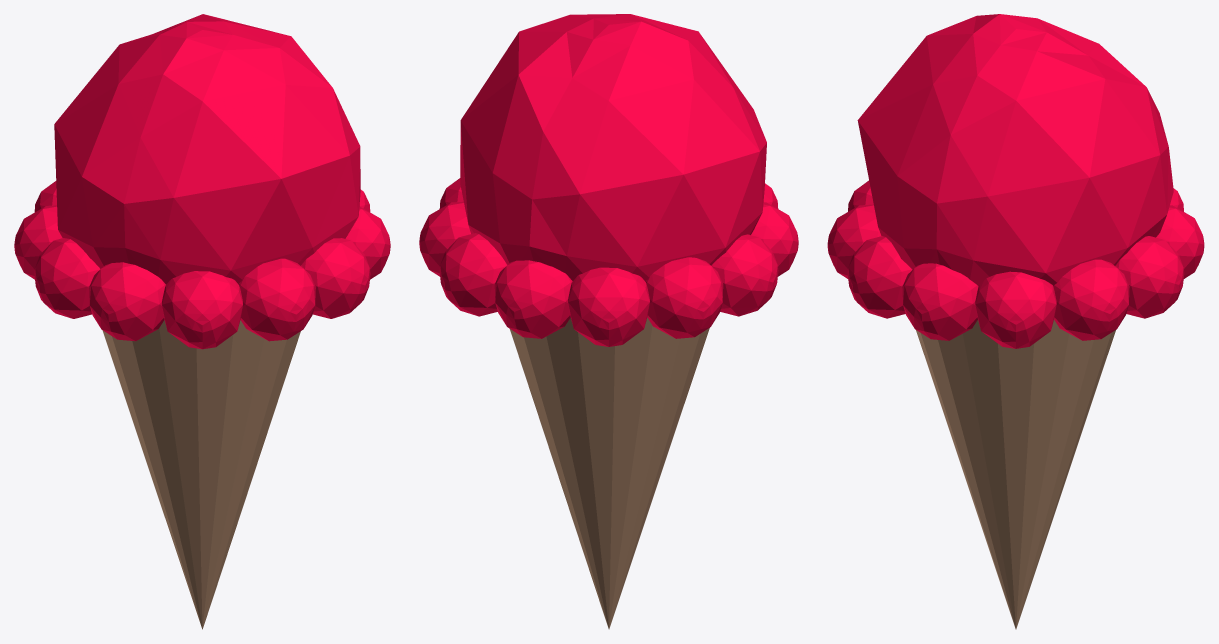
The model's file is Icecream.fbx.
3 renders of one model, left to right at view 1: azimuth 30°, elevation 25°; view 2: azimuth 150°, elevation 25°; view 3: azimuth 270°, elevation 25°, orthographic.
Parts seen in each view (by area): view 1: Grote_Bol_Backup, Cone, Kleine_Bol_7, Kleine_Bol_6, Kleine_Bol_8, Kleine_Bol_5, Kleine_Bol_9, Kleine_Bol_10, Kleine_Bol_4; view 2: Grote_Bol_Backup, Cone, Kleine_Bol_11, Kleine_Bol_10, Kleine_Bol_0, Kleine_Bol_1, Kleine_Bol_9, Kleine_Bol_2, Kleine_Bol_8; view 3: Grote_Bol_Backup, Cone, Kleine_Bol_3, Kleine_Bol_2, Kleine_Bol_4, Kleine_Bol_1, Kleine_Bol_5, Kleine_Bol_6, Kleine_Bol_0.
Boxes of the visible parts, <box> form: Grote_Bol_Backup: <box>54,14,360,284</box>; Cone: <box>102,320,300,629</box>; Kleine_Bol_7: <box>162,271,242,349</box>; Kleine_Bol_6: <box>238,258,315,341</box>; Kleine_Bol_8: <box>89,262,165,341</box>; Kleine_Bol_5: <box>301,238,370,318</box>; Kleine_Bol_9: <box>34,238,100,318</box>; Kleine_Bol_10: <box>14,205,62,279</box>; Kleine_Bol_4: <box>345,206,390,279</box>; Grote_Bol_Backup: <box>460,14,766,281</box>; Cone: <box>510,317,709,629</box>; Kleine_Bol_11: <box>568,267,649,346</box>; Kleine_Bol_10: <box>645,257,723,338</box>; Kleine_Bol_0: <box>494,260,572,338</box>; Kleine_Bol_1: <box>439,233,506,316</box>; Kleine_Bol_9: <box>711,234,778,316</box>; Kleine_Bol_2: <box>419,201,470,276</box>; Kleine_Bol_8: <box>751,202,798,276</box>; Grote_Bol_Backup: <box>857,14,1173,286</box>; Cone: <box>916,320,1115,629</box>; Kleine_Bol_3: <box>975,271,1056,348</box>; Kleine_Bol_2: <box>1053,259,1129,340</box>; Kleine_Bol_4: <box>902,263,978,340</box>; Kleine_Bol_1: <box>1115,236,1184,318</box>; Kleine_Bol_5: <box>847,236,912,318</box>; Kleine_Bol_6: <box>827,204,881,278</box>; Kleine_Bol_0: <box>1156,205,1204,278</box>.
Size of the model in its own units: 220 by 389 by 220.
